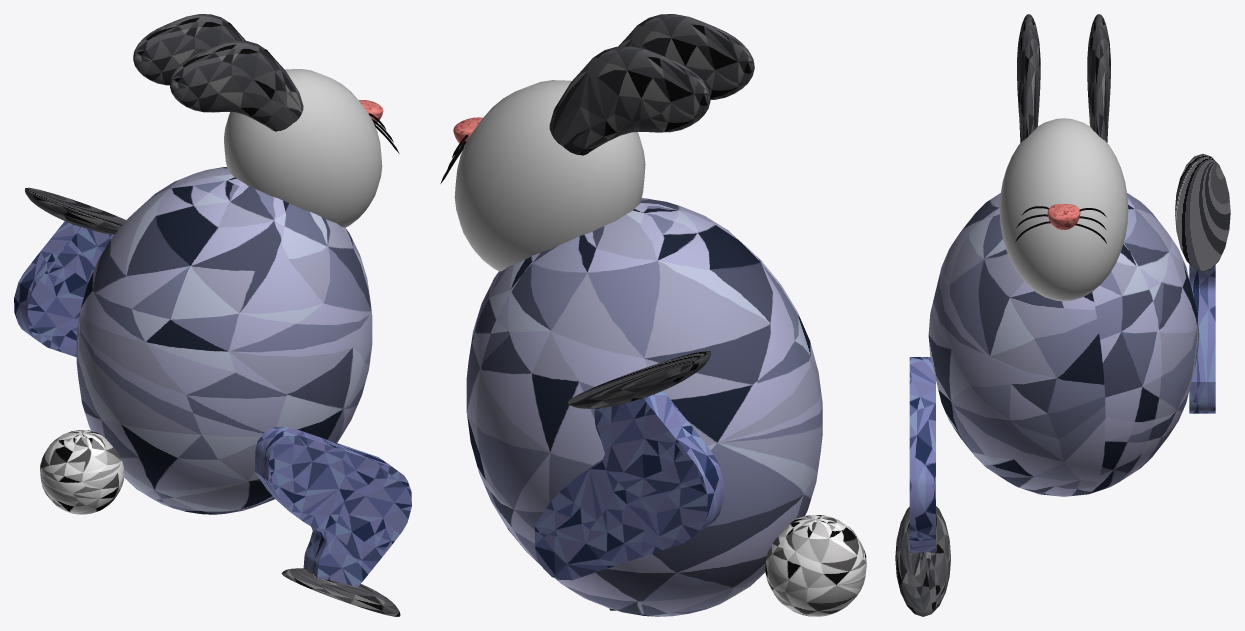
File: Kaninus animation run.fbx
3 renders of one model, left to right at view 1: azimuth 30°, elevation 25°; view 2: azimuth 150°, elevation 25°; view 3: azimuth 270°, elevation 25°, orthographic. The views are drawn at different scales.
Visible parts, largest first — view 1: pSphere1, polySurface28, pSphere3, pSphere4, pSphere2, pSphere12; view 2: pSphere1, polySurface28, pSphere3, pSphere12, pSphere2, pSphere4; view 3: pSphere1, pSphere3, polySurface28, pSphere12, pSphere4, pSphere9.
Boxes of the visible parts, left/top/right/bottom form: pSphere1: left=76, top=167, right=372, bottom=514; polySurface28: left=14, top=187, right=411, bottom=616; pSphere3: left=224, top=69, right=382, bottom=227; pSphere4: left=170, top=40, right=303, bottom=131; pSphere2: left=40, top=430, right=124, bottom=514; pSphere12: left=133, top=14, right=245, bottom=85; pSphere1: left=466, top=198, right=822, bottom=616; polySurface28: left=534, top=350, right=724, bottom=610; pSphere3: left=454, top=80, right=645, bottom=271; pSphere12: left=549, top=46, right=710, bottom=155; pSphere2: left=765, top=515, right=866, bottom=616; pSphere4: left=618, top=14, right=754, bottom=99; pSphere1: left=928, top=193, right=1199, bottom=496; pSphere3: left=999, top=118, right=1128, bottom=301; polySurface28: left=895, top=153, right=1230, bottom=616; pSphere12: left=1087, top=14, right=1110, bottom=142; pSphere4: left=1017, top=14, right=1040, bottom=142; pSphere9: left=1047, top=204, right=1080, bottom=229.
Bounding box in the file's own units: 2.25 × 3.59 × 2.03.
